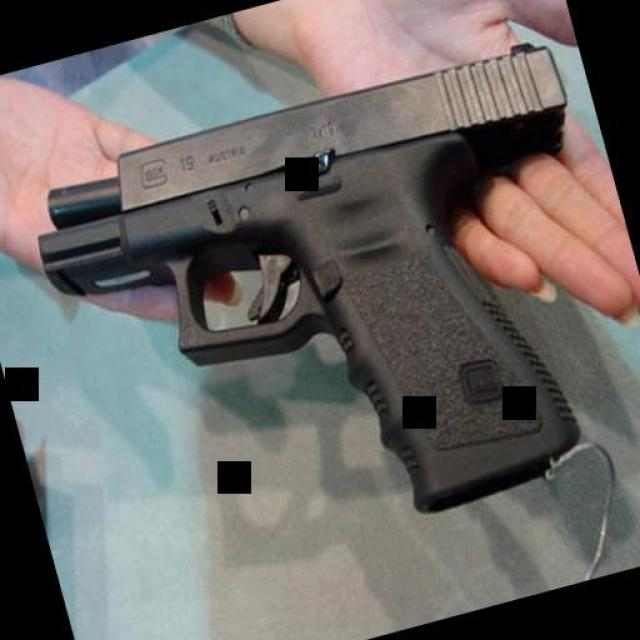gun: (12, 28, 640, 598)
